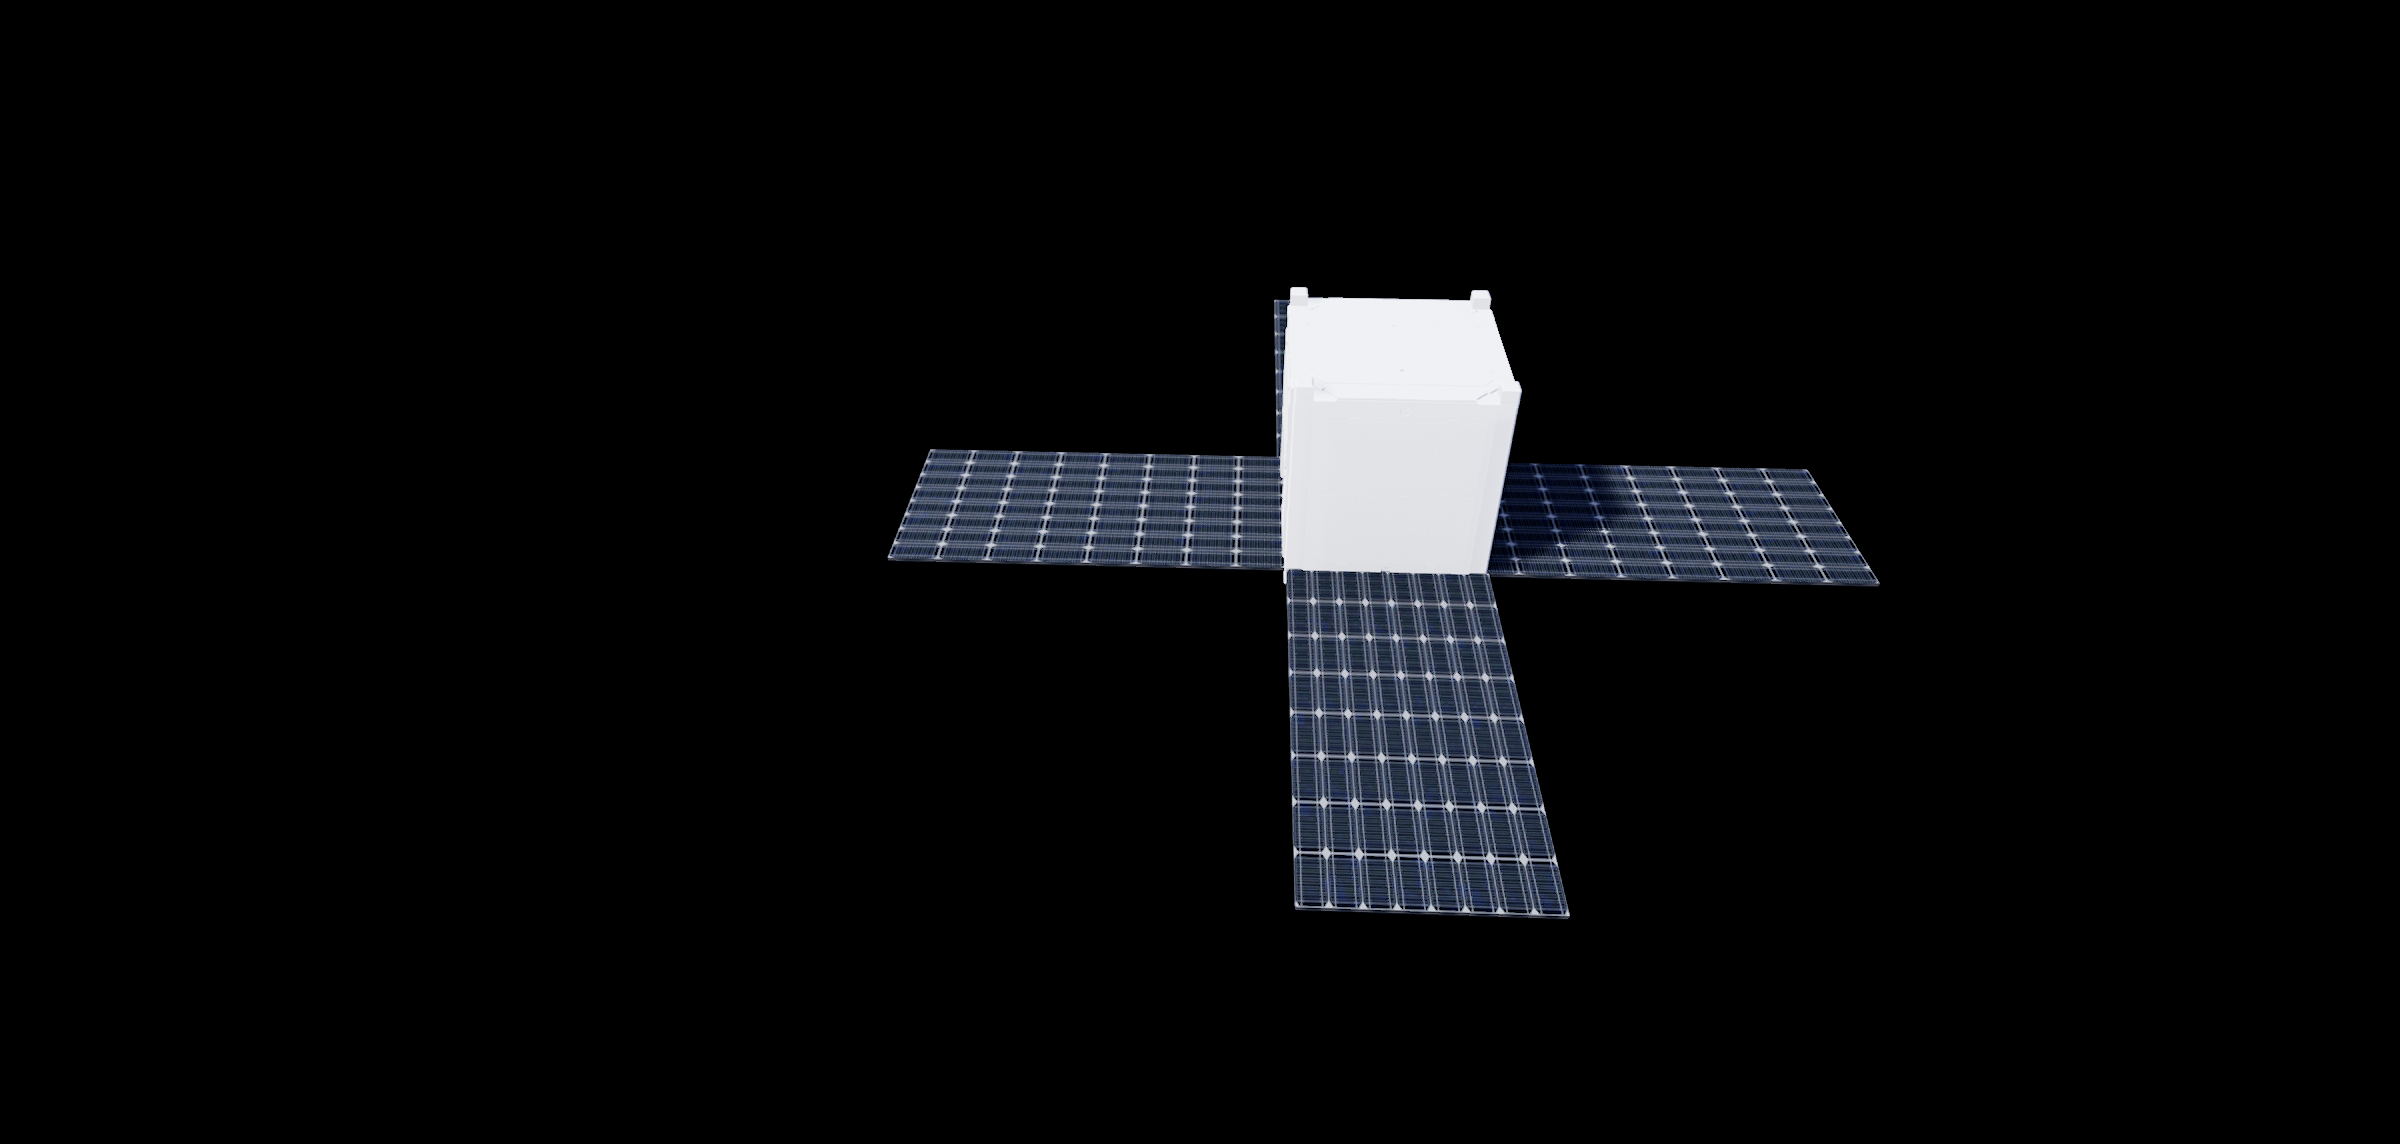satellite: (869, 224, 1903, 963)
